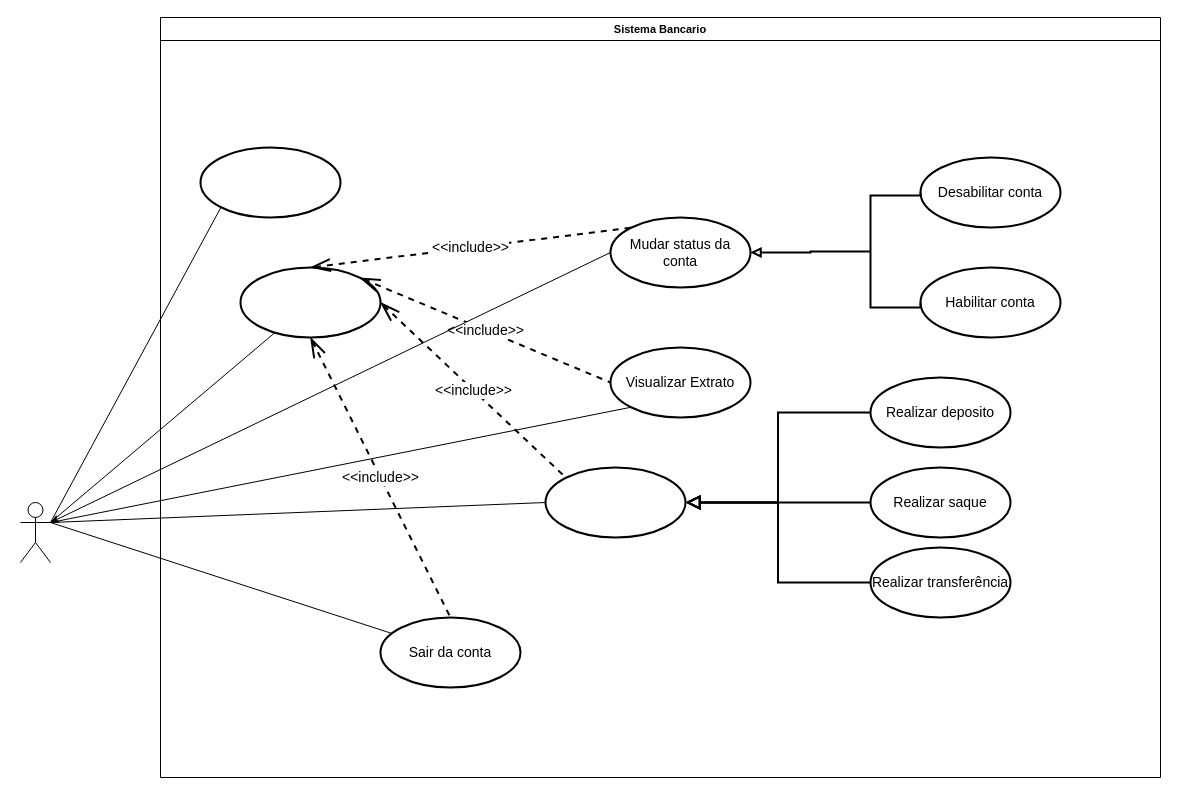
The diagram is 1178 pixels wide and 795 high, and some of its shapes have lost their labels. Each missing label, with the box of its shape:
Acessar Conta: (239, 266, 381, 338)
Cliente: (20, 502, 50, 562)
Realizar Operação: (544, 466, 686, 538)
Registrar Nova Conta: (199, 146, 341, 218)
